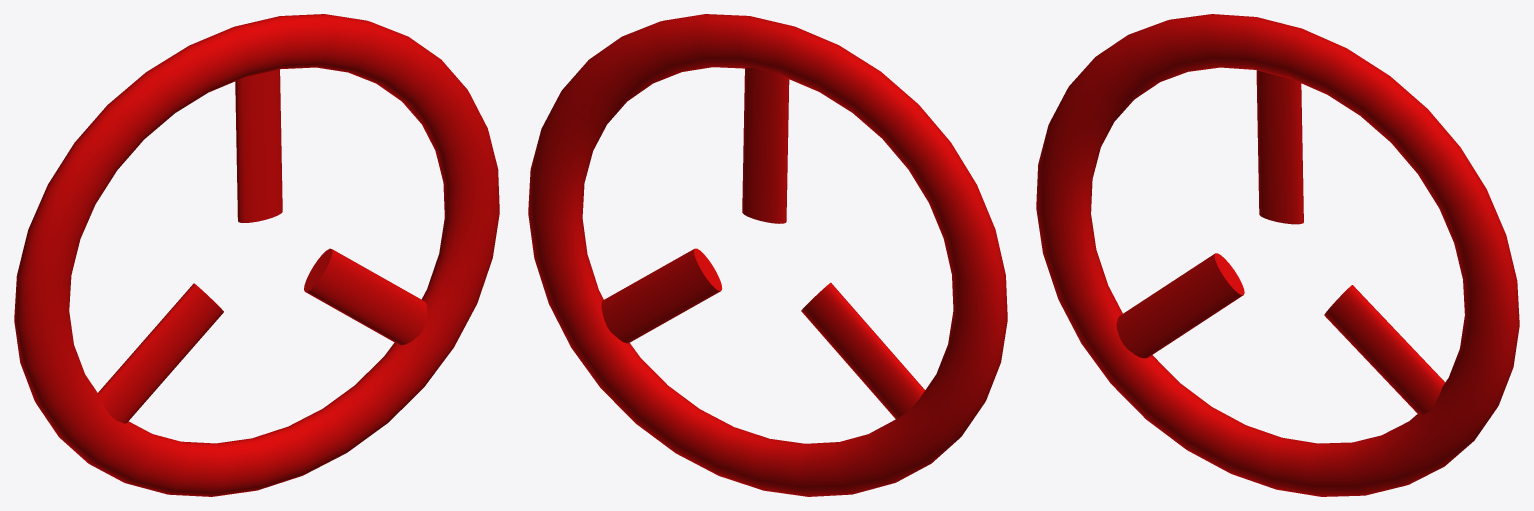
Rendered from LVL_Valve.fbx.
3 views of the same model, side by side, from view 1: azimuth 30°, elevation 25°; view 2: azimuth 150°, elevation 25°; view 3: azimuth 330°, elevation 25° (orthographic).
Visible parts, largest first — view 1: Valve; view 2: Valve; view 3: Valve.
Boxes of the visible parts, box(x1,y1,x2,y2) form: Valve: box(14, 14, 499, 496); Valve: box(528, 14, 1007, 496); Valve: box(1036, 14, 1519, 496).
Size of the model in its own units: 342 by 319 by 28.29.
